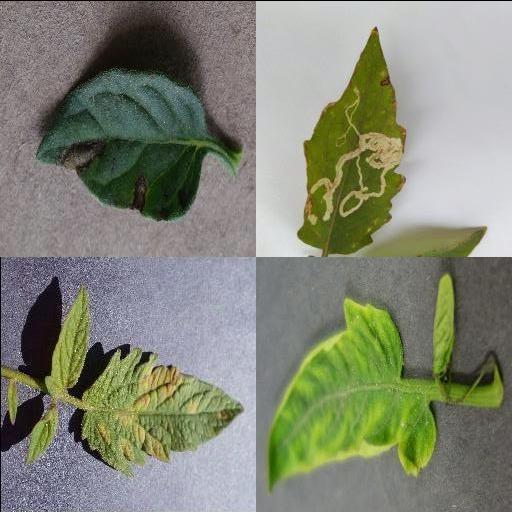Early Blight: (35, 63, 207, 219)
Healthy: (45, 287, 90, 390)
Leaf Miner: (296, 23, 409, 256)
Leaf Mold: (80, 346, 246, 479)
Yellow Leaf Curl Virus: (267, 296, 437, 490), (431, 270, 455, 374)
